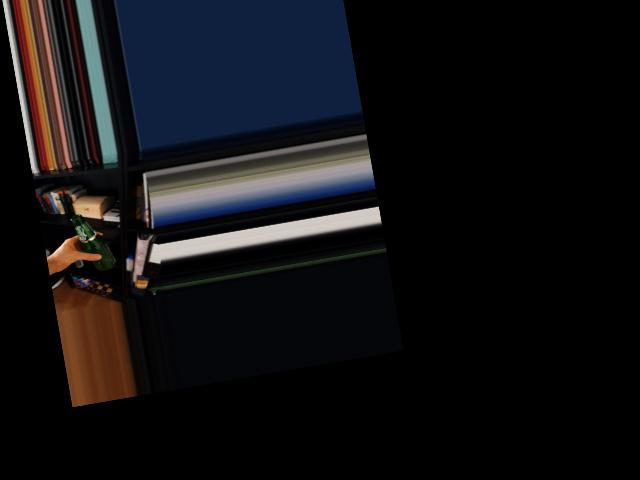beer: (70, 209, 118, 275)
